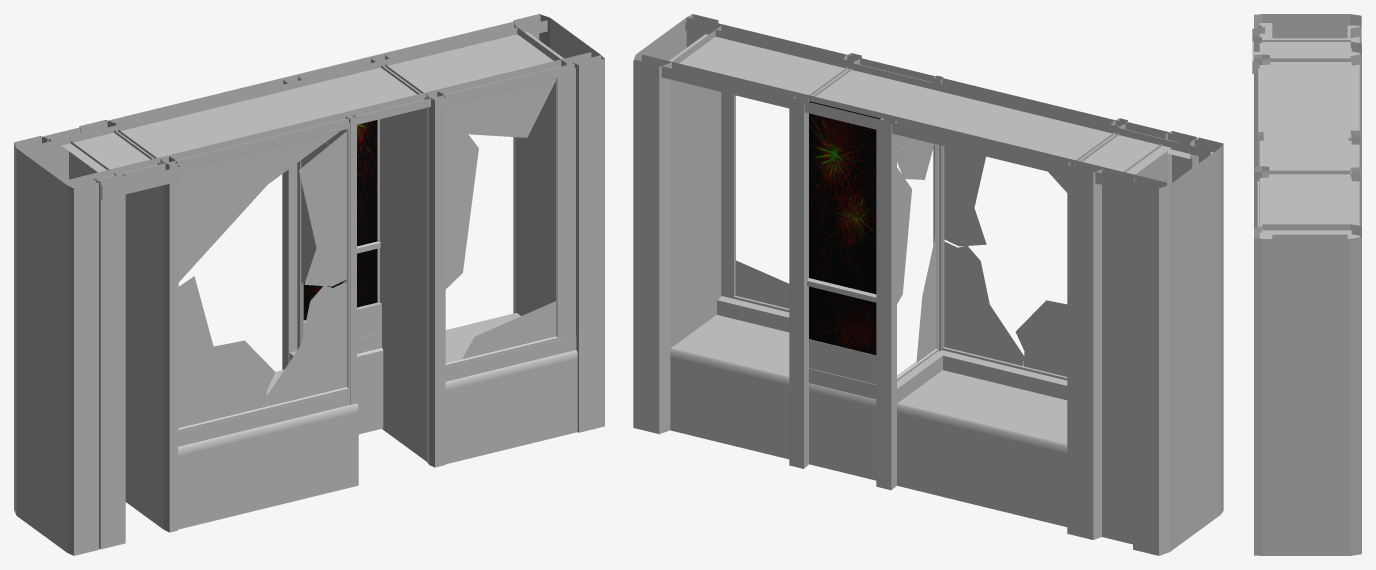
File: store_front_windows_broken_4x1_c.fbx
The picture shows the model from 3 angles, left to right: view 1: azimuth 30°, elevation 25°; view 2: azimuth 150°, elevation 25°; view 3: azimuth 270°, elevation 25°; orthographic projection. The views are drawn at different scales.
Parts seen in each view (by area): view 1: store_front_windows_broken_4x1_c_LOD0; view 2: store_front_windows_broken_4x1_c_LOD0; view 3: store_front_windows_broken_4x1_c_LOD0.
Part boxes in pixels (box(x1,y1,x2,y2)): store_front_windows_broken_4x1_c_LOD0: box(14, 14, 604, 555); store_front_windows_broken_4x1_c_LOD0: box(633, 14, 1223, 555); store_front_windows_broken_4x1_c_LOD0: box(1252, 14, 1361, 555).
Size of the model in its own units: 600 by 124 by 395.
